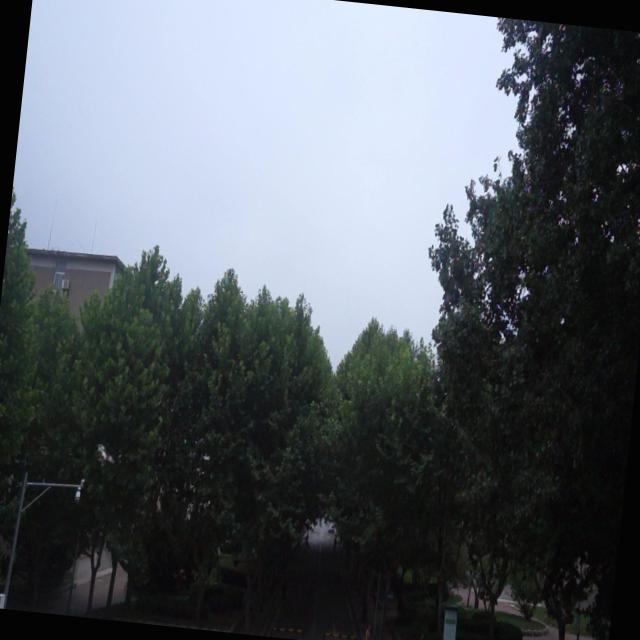drone: (92, 438, 118, 472)
